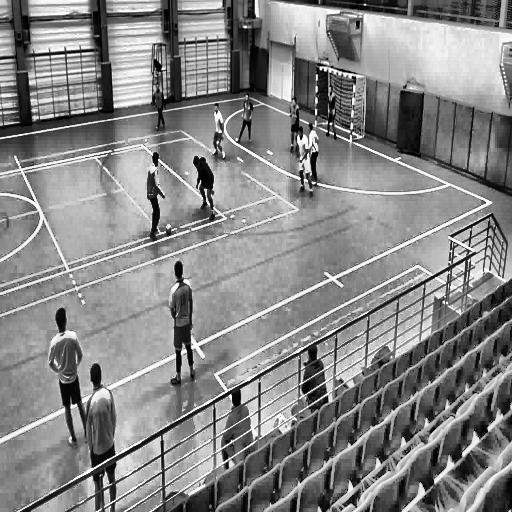ball: (165, 221, 173, 239)
player: (46, 302, 89, 451), (86, 361, 118, 512), (167, 257, 198, 388), (144, 146, 164, 243), (192, 152, 218, 226), (295, 124, 316, 201), (236, 91, 255, 151), (306, 118, 322, 188), (212, 99, 229, 162), (325, 84, 340, 146), (286, 94, 300, 156), (153, 81, 168, 134)
